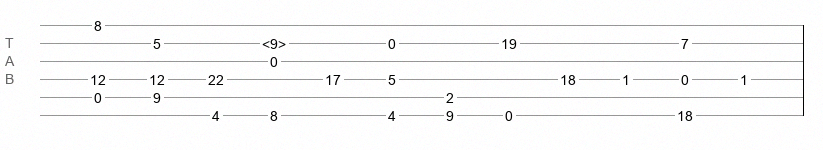0: (94, 90, 102, 100), (270, 54, 278, 64), (388, 36, 396, 46), (505, 108, 513, 118), (681, 72, 689, 82)
1: (622, 72, 630, 82), (740, 72, 748, 82)
12: (90, 72, 106, 82), (149, 72, 165, 82)
17: (325, 72, 341, 82)
18: (560, 72, 576, 82), (677, 108, 693, 118)
19: (501, 36, 517, 46)
2: (446, 90, 454, 100)
22: (208, 72, 224, 82)
4: (212, 108, 220, 118), (388, 108, 396, 118)
5: (153, 36, 161, 46), (388, 72, 396, 82)
7: (681, 36, 689, 46)
8: (94, 18, 102, 28), (270, 108, 278, 118)
9: (153, 90, 161, 100), (446, 108, 454, 118)
harmonic: (262, 36, 286, 46)
